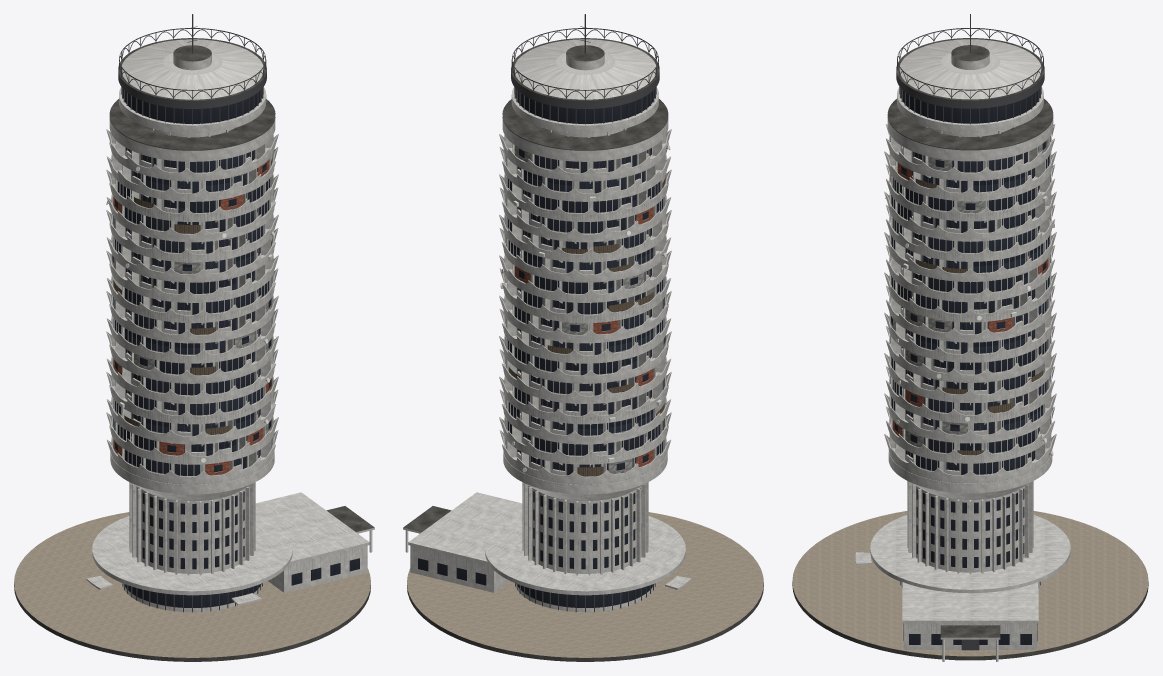
Rendered from romanita.obj.
The picture shows the model from 3 angles, left to right: view 1: azimuth 30°, elevation 25°; view 2: azimuth 150°, elevation 25°; view 3: azimuth 270°, elevation 25°; orthographic projection.
Visible parts, largest first — view 1: Balconies_ConcreteRom, Plaza_PHex, Closed_Glass, Stem_ConcreteRom, Crown_ConcreteRom, Ground_ConcreteRom, Annex_ConcreteRom, Facade_Glass, Facade_ConcreteRom, Closed_PaintWhite, Crown_Aluminium, Cornice_ConcreteDark (+11 smaller); view 2: Balconies_ConcreteRom, Plaza_PHex, Stem_ConcreteRom, Closed_Glass, Crown_ConcreteRom, Ground_ConcreteRom, Annex_ConcreteRom, Facade_Glass, Facade_ConcreteRom, Closed_PaintWhite, Crown_Aluminium, Cornice_ConcreteDark (+11 smaller); view 3: Balconies_ConcreteRom, Plaza_PHex, Closed_Glass, Stem_ConcreteRom, Crown_ConcreteRom, Ground_ConcreteRom, Annex_ConcreteRom, Facade_Glass, Facade_ConcreteRom, Closed_PaintWhite, Crown_Aluminium, Cornice_ConcreteDark (+11 smaller).
Boxes of the visible parts, left/top/right/bottom form: Balconies_ConcreteRom: left=106, top=129, right=278, bottom=484; Plaza_PHex: left=14, top=512, right=370, bottom=657; Closed_Glass: left=112, top=154, right=272, bottom=475; Stem_ConcreteRom: left=110, top=450, right=274, bottom=575; Crown_ConcreteRom: left=119, top=39, right=266, bottom=137; Ground_ConcreteRom: left=86, top=516, right=292, bottom=612; Annex_ConcreteRom: left=255, top=492, right=374, bottom=592; Facade_Glass: left=126, top=148, right=260, bottom=474; Facade_ConcreteRom: left=122, top=147, right=261, bottom=476; Closed_PaintWhite: left=112, top=154, right=273, bottom=476; Crown_Aluminium: left=118, top=14, right=266, bottom=124; Cornice_ConcreteDark: left=109, top=99, right=275, bottom=149; Balconies_ConcreteRom: left=499, top=129, right=671, bottom=484; Plaza_PHex: left=407, top=512, right=763, bottom=657; Stem_ConcreteRom: left=503, top=450, right=667, bottom=575; Closed_Glass: left=505, top=149, right=665, bottom=470; Crown_ConcreteRom: left=511, top=39, right=658, bottom=137; Ground_ConcreteRom: left=485, top=516, right=691, bottom=612; Annex_ConcreteRom: left=403, top=492, right=522, bottom=592; Facade_Glass: left=517, top=148, right=651, bottom=475; Facade_ConcreteRom: left=516, top=147, right=655, bottom=476; Closed_PaintWhite: left=504, top=153, right=665, bottom=470; Crown_Aluminium: left=511, top=14, right=659, bottom=124; Cornice_ConcreteDark: left=502, top=99, right=668, bottom=149; Balconies_ConcreteRom: left=884, top=124, right=1056, bottom=483; Plaza_PHex: left=792, top=511, right=1148, bottom=656; Closed_Glass: left=890, top=136, right=1050, bottom=474; Stem_ConcreteRom: left=888, top=450, right=1052, bottom=574; Crown_ConcreteRom: left=897, top=39, right=1043, bottom=137; Ground_ConcreteRom: left=855, top=515, right=1070, bottom=593; Annex_ConcreteRom: left=902, top=582, right=1038, bottom=649; Facade_Glass: left=902, top=152, right=1039, bottom=474; Facade_ConcreteRom: left=900, top=145, right=1040, bottom=475; Closed_PaintWhite: left=890, top=135, right=1050, bottom=475; Crown_Aluminium: left=896, top=14, right=1044, bottom=124; Cornice_ConcreteDark: left=887, top=99, right=1053, bottom=149.
Bounding box in the file's own units: 50 × 84.9 × 48.
9 materials, 9 textured.
